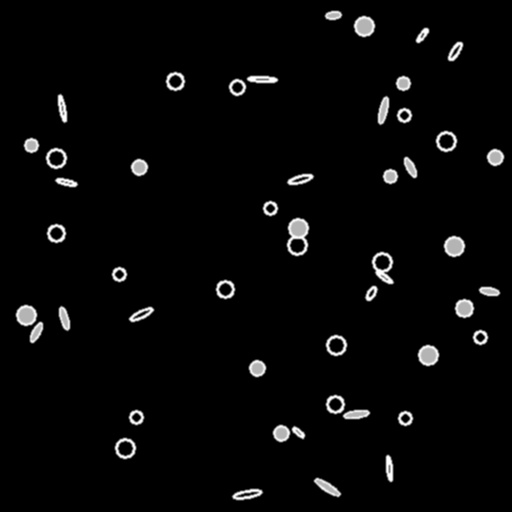pseudomonas: (313, 477, 341, 497), (129, 306, 153, 322), (402, 156, 418, 178), (377, 96, 389, 124), (447, 41, 463, 61), (287, 173, 313, 185), (232, 489, 262, 499), (58, 306, 70, 330), (29, 322, 43, 342), (343, 409, 369, 419), (57, 95, 67, 121), (375, 270, 393, 284), (415, 27, 429, 43), (364, 285, 378, 301), (55, 177, 77, 187), (385, 455, 393, 481), (479, 286, 499, 296), (291, 425, 305, 439), (247, 76, 277, 82), (325, 11, 341, 19)
synechocystis: (116, 439, 134, 457), (419, 346, 437, 364), (288, 236, 306, 254), (445, 237, 463, 255), (47, 149, 65, 167), (373, 253, 391, 271), (437, 132, 455, 150), (327, 336, 345, 354), (289, 219, 307, 237), (355, 17, 373, 35), (17, 306, 35, 324), (48, 225, 64, 241), (167, 73, 183, 89), (456, 300, 472, 316), (327, 396, 343, 412), (217, 281, 233, 297), (250, 361, 264, 375), (274, 426, 288, 440), (488, 150, 502, 164), (132, 160, 146, 174), (230, 80, 244, 94), (25, 139, 37, 151), (130, 411, 142, 423), (474, 331, 486, 343), (113, 268, 125, 280), (384, 170, 396, 182), (399, 412, 411, 424), (397, 77, 409, 89), (264, 202, 276, 214), (398, 109, 410, 121)
